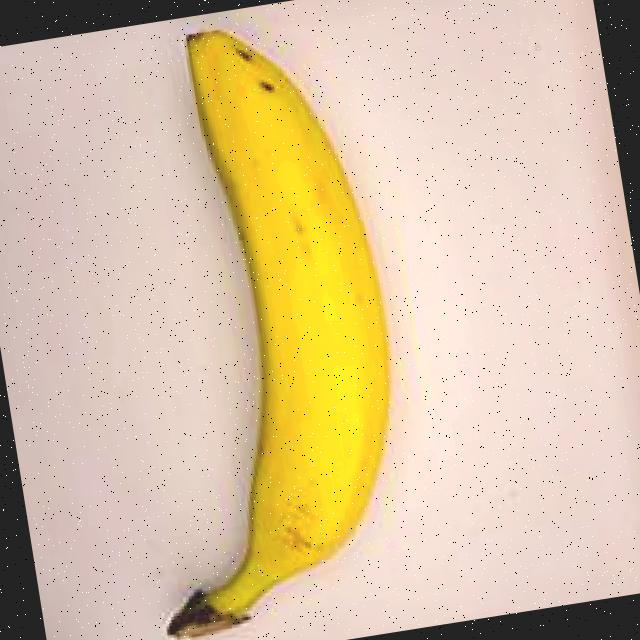Ripe: (26, 0, 489, 640)
